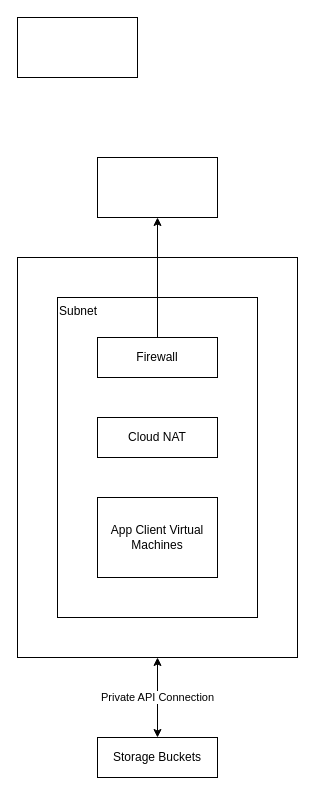
This 315x795 diagram has some shape labels left out. The shapes that lost their labels are listed below. From the top down, each one's box as (x1, y1, x2, y2) in pixels, then its label:
(16, 16, 138, 78): Basic Landing Zone
(96, 156, 218, 218): App Cloud
(16, 256, 298, 658): VPC
